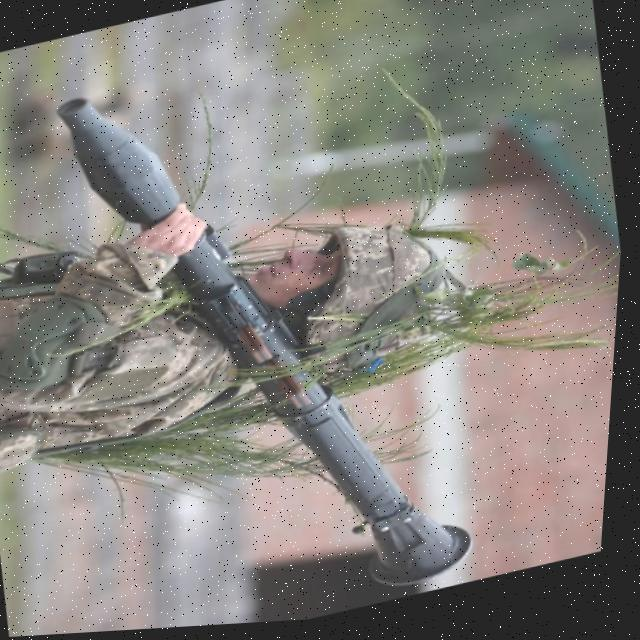rocket: (0, 7, 556, 639)
